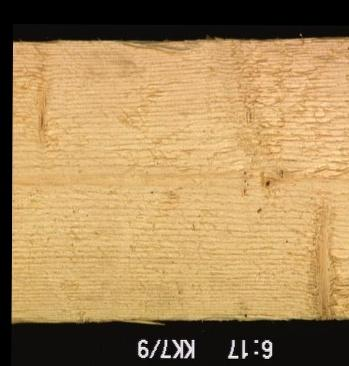small_knot: (258, 176, 273, 190), (276, 165, 286, 179)
wave: (113, 39, 195, 58)
